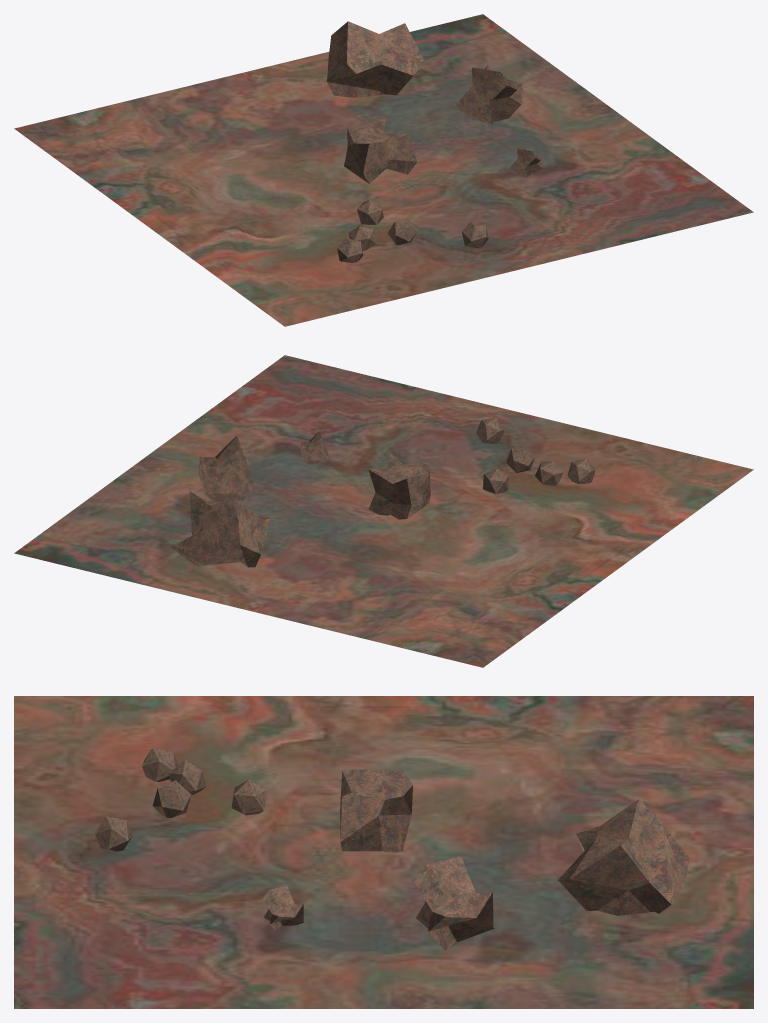
Rendered from cave_floor_decor_003.glb.
The picture shows the model from 3 angles, top to bottom: view 1: azimuth 30°, elevation 25°; view 2: azimuth 150°, elevation 25°; view 3: azimuth 270°, elevation 25°; orthographic projection. The views are drawn at different scales.
Visible parts, largest first — view 1: cave_floor_decor.003; view 2: cave_floor_decor.003; view 3: cave_floor_decor.003.
Part boxes in pixels (<box>): cave_floor_decor.003: <box>14,14,753,326</box>; cave_floor_decor.003: <box>14,355,753,667</box>; cave_floor_decor.003: <box>14,696,753,1008</box>.
Size of the model in its own units: 2 by 0.3463 by 2.
Materials: 1 (1 with a texture image).
